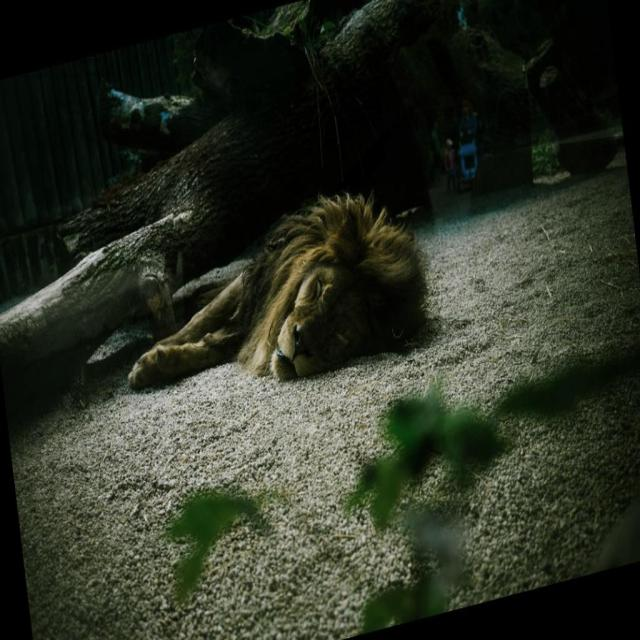Lion: (113, 167, 440, 421)
